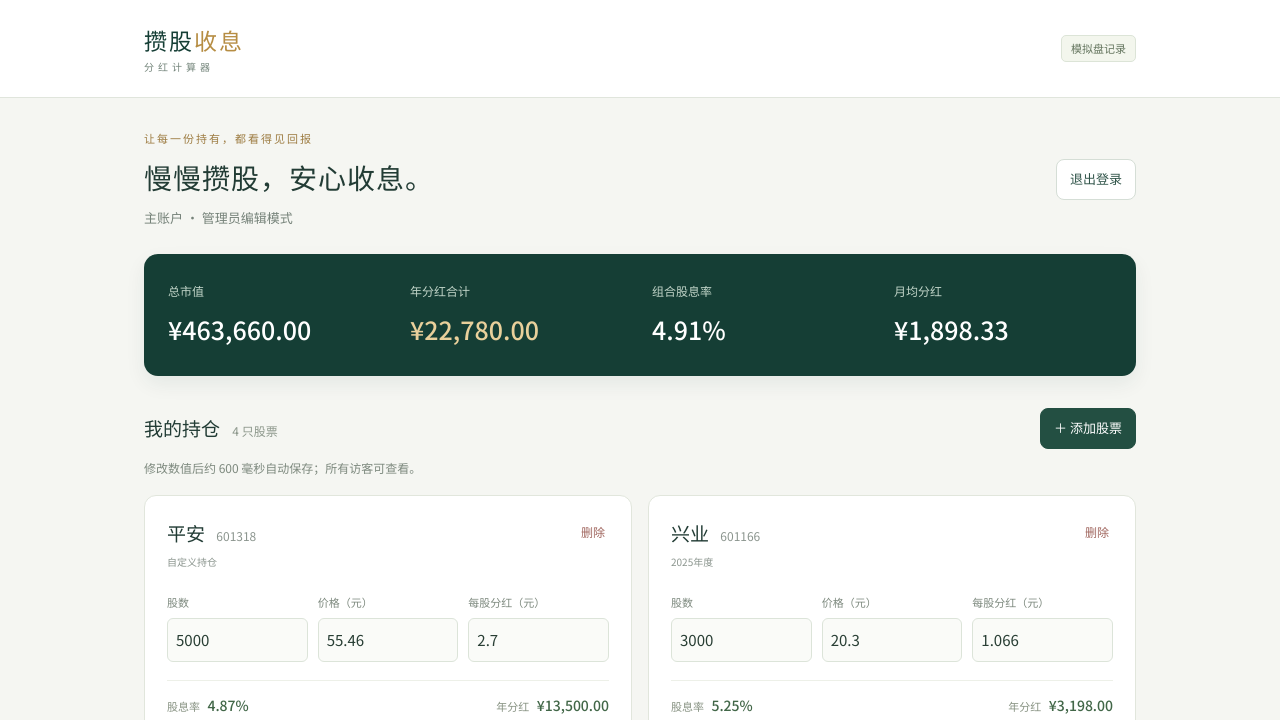
Test: 编辑股数即时更新月表及三处合计，保存后保持一致
The image size is (1280, 720).
Replace the text in the number field named "平安股数" with "6000" at (237, 640), box [167,618,308,662]
Wait 600 ms
(page scrolled)
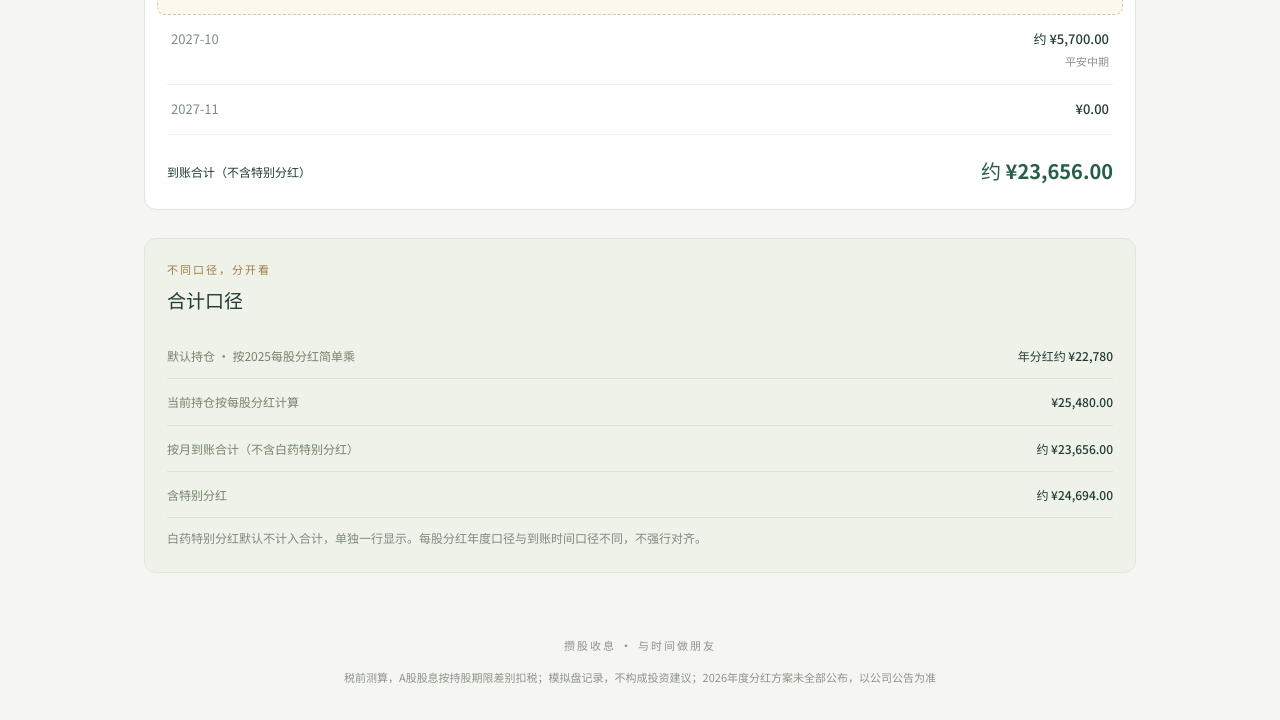
expect the text "年分红约 ¥22,780" is shown: met, box [1018,346,1113,365]
expect the text "约 ¥24,694.00" is shown: met, box [1036,485,1113,504]
